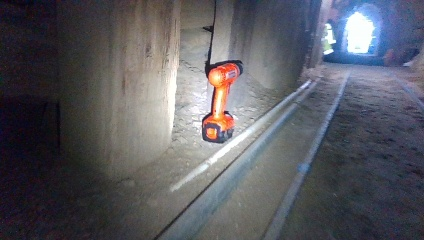drill: (201, 57, 244, 145)
manikin: (323, 10, 342, 68)
